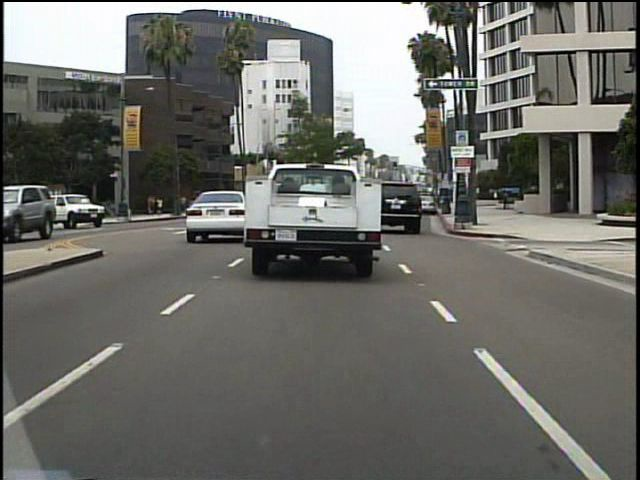person: (14, 193, 35, 233), (78, 190, 94, 226), (69, 194, 85, 228), (116, 188, 132, 219)
